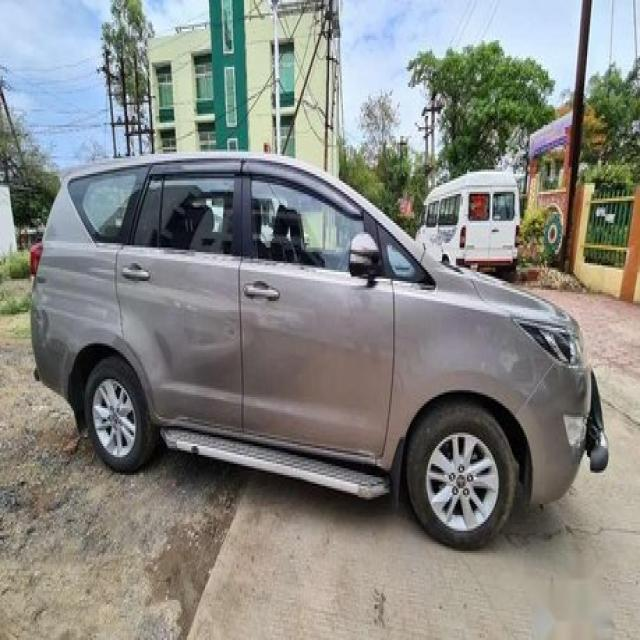light_vehicle: (30, 150, 609, 552)
